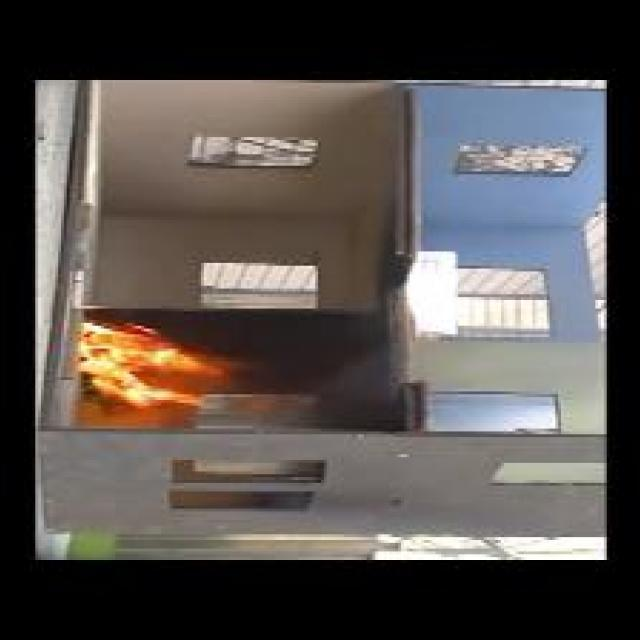Fire: (77, 322, 229, 408)
